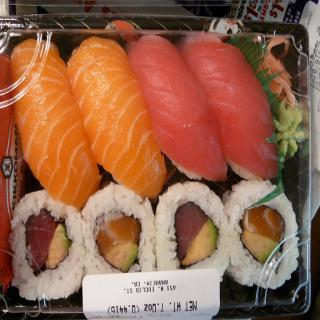Sushi: (11, 33, 301, 300), (10, 188, 74, 308)
